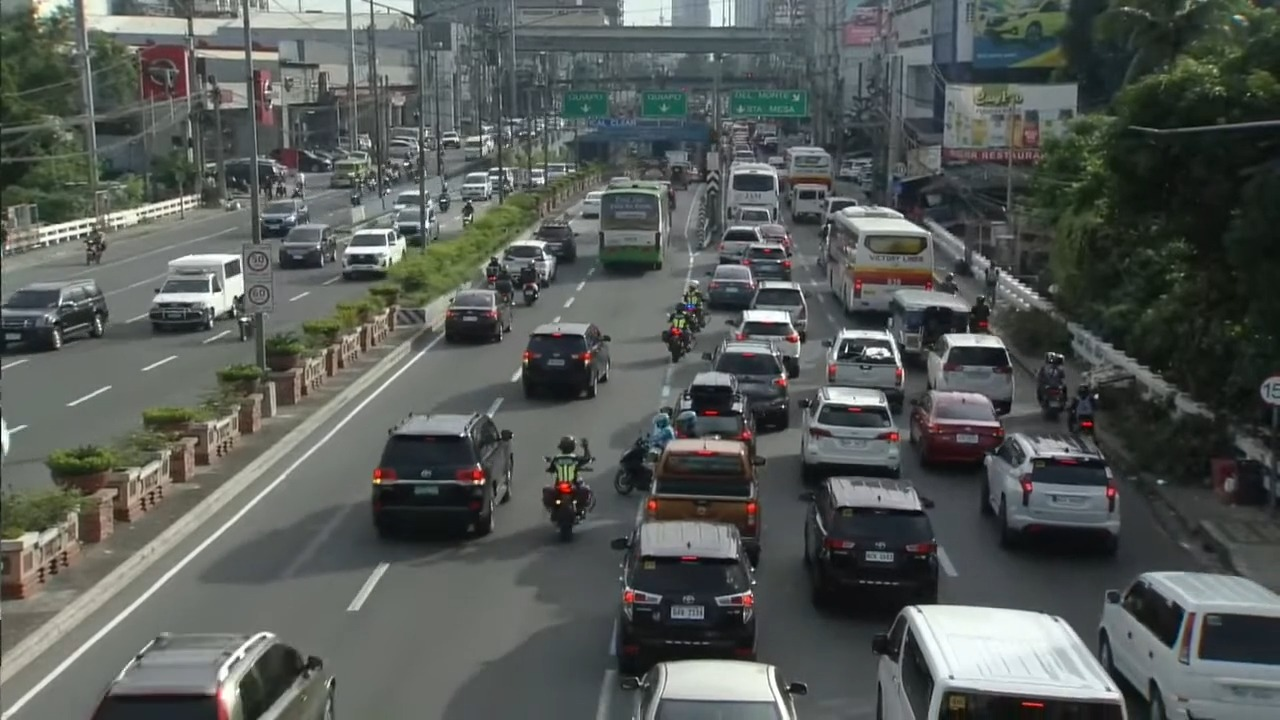bus: (826, 206, 933, 312), (599, 181, 672, 270), (725, 163, 780, 219), (784, 147, 833, 205), (330, 156, 370, 186), (462, 135, 491, 159)
car: (871, 604, 1129, 719), (1097, 571, 1279, 719), (611, 520, 756, 675), (92, 632, 335, 719), (371, 412, 513, 536), (803, 477, 939, 605), (980, 432, 1120, 554), (622, 659, 807, 719), (800, 386, 900, 481), (703, 340, 789, 429), (0, 279, 108, 349), (926, 333, 1014, 414), (822, 328, 905, 413), (908, 391, 1004, 464), (674, 371, 754, 455), (521, 322, 610, 397), (725, 310, 800, 377), (981, 0, 1067, 45), (443, 288, 511, 342), (749, 280, 808, 341), (342, 228, 405, 279), (278, 223, 337, 268), (501, 239, 557, 286), (706, 264, 756, 308), (742, 241, 791, 280), (534, 217, 576, 262), (260, 198, 309, 236), (393, 205, 437, 247), (717, 224, 760, 263), (821, 196, 860, 226), (757, 223, 793, 255), (393, 189, 433, 210), (734, 205, 773, 225), (581, 191, 603, 219), (837, 160, 856, 181), (440, 131, 461, 149), (607, 176, 634, 188), (733, 150, 755, 162), (766, 156, 786, 169)
motorcycle: (543, 481, 591, 541), (614, 435, 654, 495), (1067, 392, 1098, 435), (1038, 382, 1066, 420), (663, 328, 690, 361), (677, 301, 705, 332), (234, 298, 253, 341), (1069, 413, 1095, 437), (85, 241, 104, 264), (237, 312, 252, 341), (522, 282, 540, 306), (969, 319, 989, 333), (938, 281, 958, 294), (485, 269, 497, 289), (437, 194, 450, 211), (350, 188, 362, 206), (461, 213, 473, 227), (292, 187, 303, 198)
